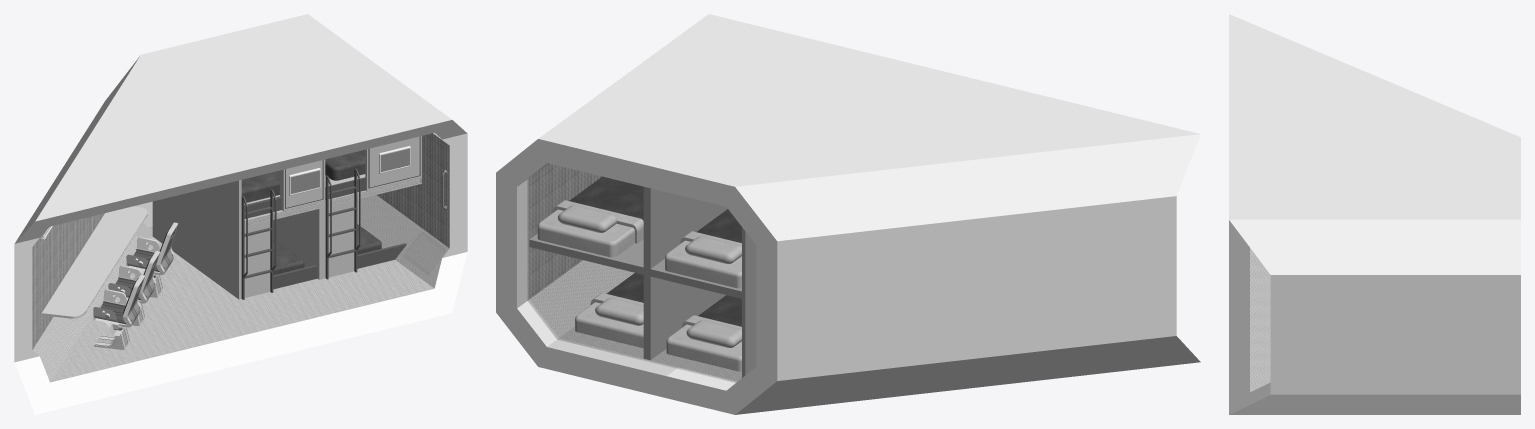
Rendered from ARKHA_L2_SleepWardBayTri_V1.glb.
3 renders of one model, left to right at view 1: azimuth 30°, elevation 25°; view 2: azimuth 150°, elevation 25°; view 3: azimuth 270°, elevation 25°, orthographic. The views are drawn at different scales.
Visible parts, largest first — view 1: 3DGeom-1, 3DGeom-2, 3DGeom-6, 3DGeom-3, 3DGeom-54, 3DGeom-7, 3DGeom-101, 3DGeom-9 (×2), 3DGeom-19, 3DGeom-31, 3DGeom-27, 3DGeom-39 (+5 smaller); view 2: 3DGeom-1, 3DGeom-5, 3DGeom-6, 3DGeom-2, 3DGeom-3, 3DGeom-4, 3DGeom-18, 3DGeom-19, 3DGeom-30, 3DGeom-26, 3DGeom-22, 3DGeom-21 (+7 smaller); view 3: 3DGeom-1, 3DGeom-2.
Boxes of the visible parts, <box> form: 3DGeom-1: <box>14,14,467,414</box>; 3DGeom-2: <box>32,195,449,382</box>; 3DGeom-6: <box>152,136,421,299</box>; 3DGeom-3: <box>32,133,449,349</box>; 3DGeom-54: <box>41,206,147,318</box>; 3DGeom-7: <box>244,136,420,289</box>; 3DGeom-101: <box>403,232,446,274</box>; 3DGeom-9 (×2): <box>291,148,409,193</box>; 3DGeom-19: <box>325,150,365,180</box>; 3DGeom-31: <box>241,170,279,202</box>; 3DGeom-27: <box>273,238,304,275</box>; 3DGeom-39: <box>270,189,276,292</box>; 3DGeom-1: <box>496,14,1200,414</box>; 3DGeom-5: <box>528,163,755,382</box>; 3DGeom-6: <box>529,186,756,377</box>; 3DGeom-2: <box>529,260,741,381</box>; 3DGeom-3: <box>529,163,601,299</box>; 3DGeom-4: <box>517,163,678,375</box>; 3DGeom-18: <box>537,209,634,257</box>; 3DGeom-19: <box>569,176,643,220</box>; 3DGeom-30: <box>665,240,741,288</box>; 3DGeom-26: <box>666,324,741,371</box>; 3DGeom-22: <box>575,302,643,348</box>; 3DGeom-21: <box>557,205,617,232</box>; 3DGeom-1: <box>1229,14,1520,414</box>; 3DGeom-2: <box>1250,248,1270,391</box>.
Size of the model in its own units: 7.6 by 3.1 by 4.2.
17 materials, 7 textured.
